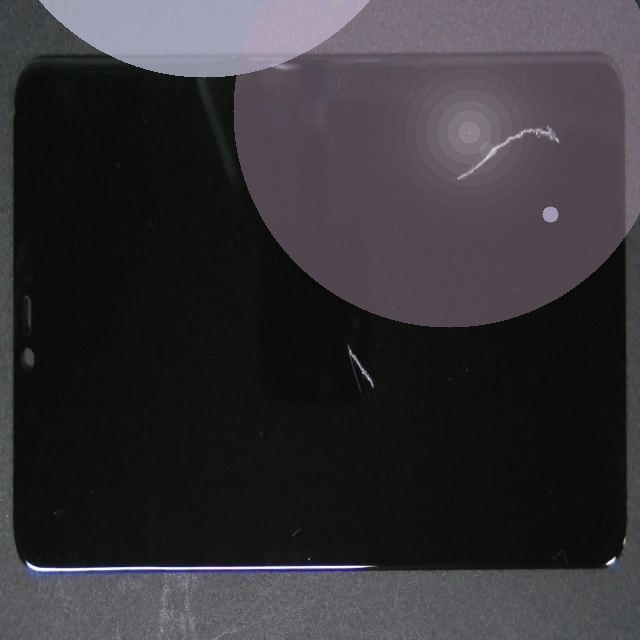scratch: (182, 127, 523, 528), (336, 21, 640, 189)
